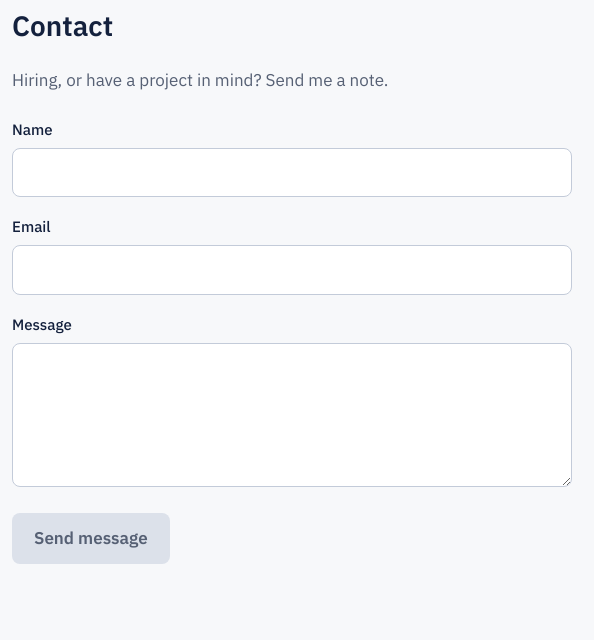
Test case: Contact › shows an error and keeps what was typed when sending fails
The image size is (594, 640).
Step 1. Type "Test User" into the field labelled "Name" → (292, 173), box x1=12 y1=148 x2=572 y2=197
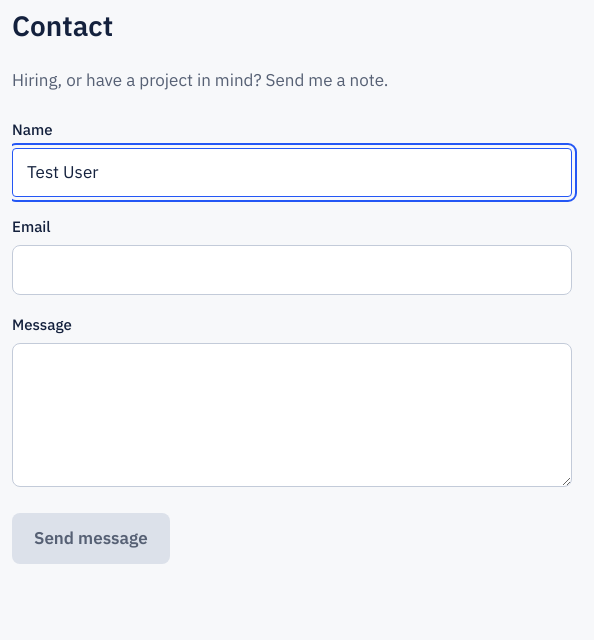
Step 2. Type "test@example.com" into the field labelled "Email" → (292, 270), box x1=12 y1=245 x2=572 y2=295
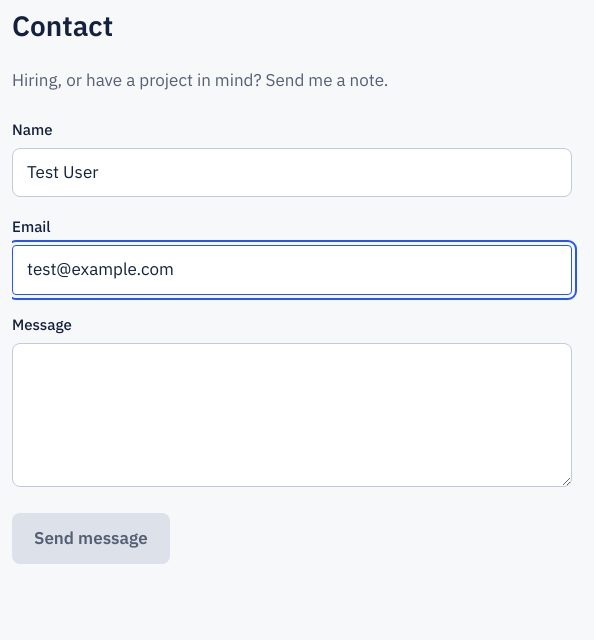
Step 3. Type "Hello!" into the text box labelled "Message" → (292, 415), box x1=12 y1=343 x2=572 y2=487
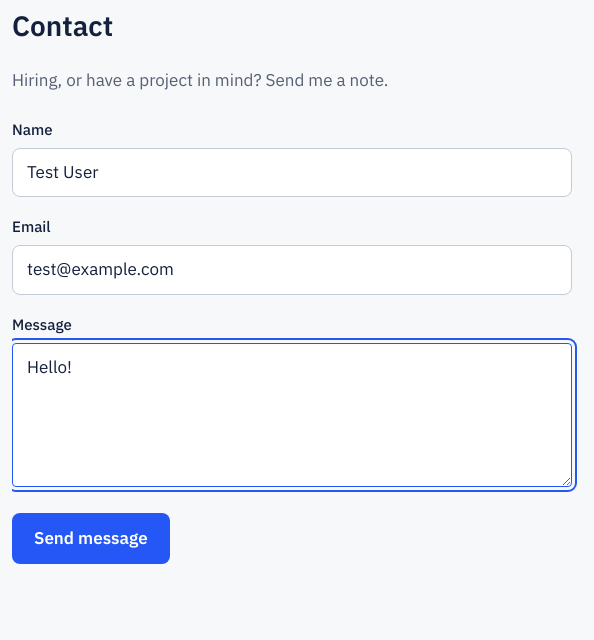
Step 4. Click the button "Send message" → (91, 538), box x1=12 y1=513 x2=170 y2=564
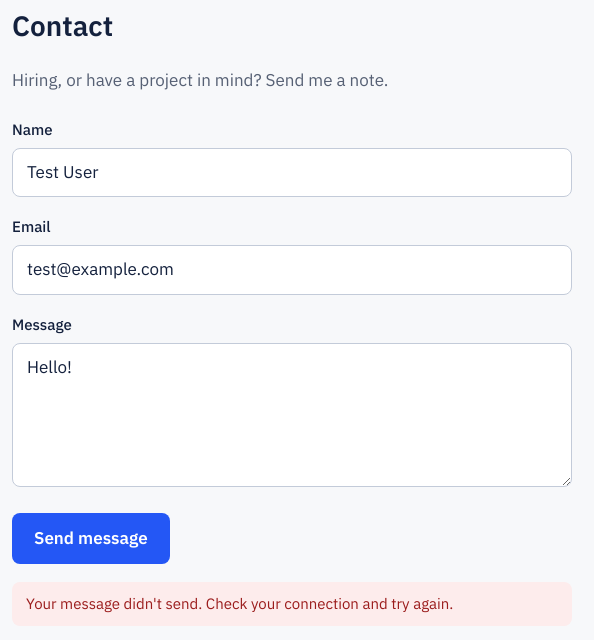
Expected: the button "Send message" is enabled, x1=12 y1=513 x2=170 y2=564
Expected: the text "Your message didn't send. Check your connection and try again." is shown, x1=12 y1=582 x2=572 y2=626
